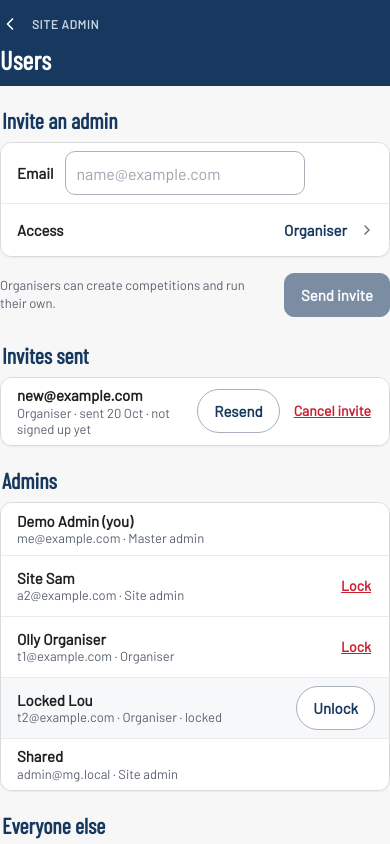
Scenario: UsersPage › shows the refusal when a lock is not allowed
Click the button with aria-label "Lock Olly Organiser" at x=356, y=647, box top-left (337, 625), bottom-right (375, 669)
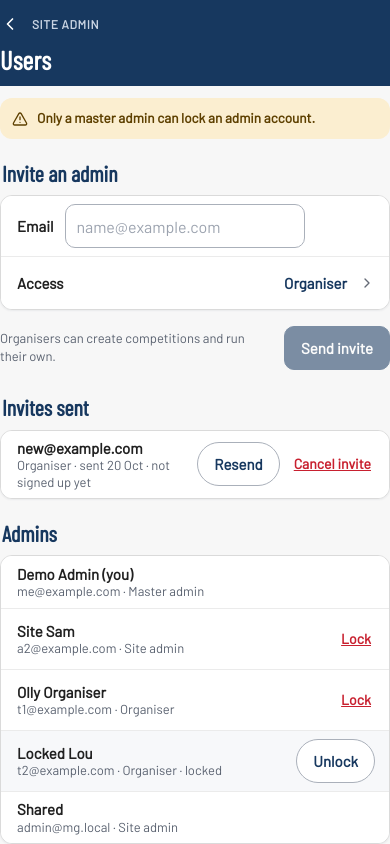
Now the message reads "Only a master admin can lock an admin account.", box top-left (37, 109), bottom-right (315, 126)
